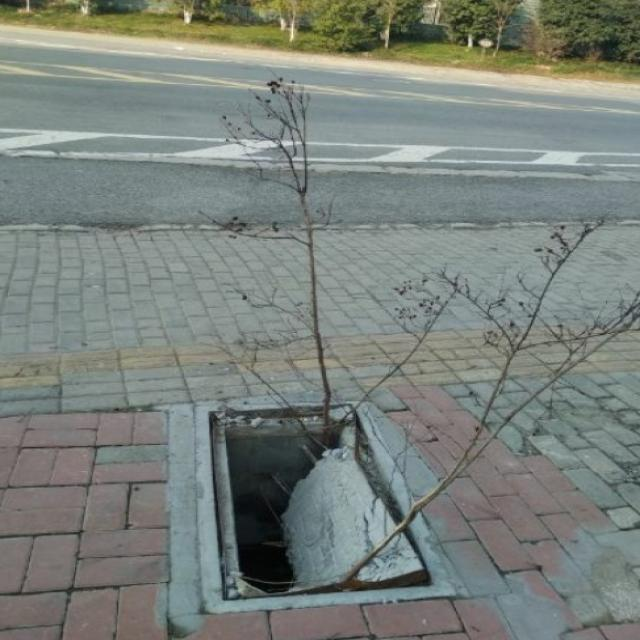Faulty: (166, 378, 468, 614)
